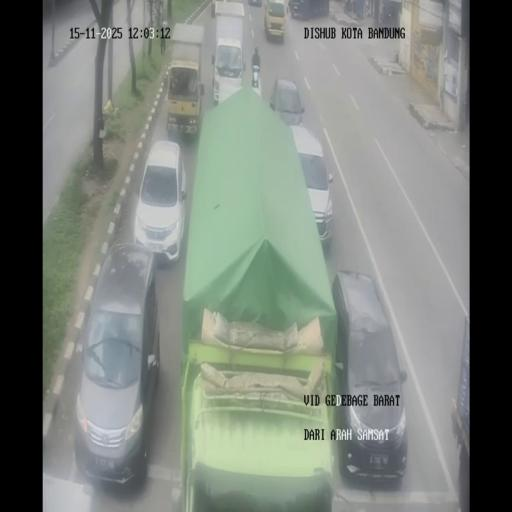car: (73, 240, 161, 486), (331, 272, 407, 482), (133, 139, 187, 265), (287, 125, 333, 250), (270, 78, 304, 126), (264, 0, 286, 42)
motorcycle: (251, 52, 261, 91), (344, 0, 353, 14)
truck: (179, 85, 335, 508), (164, 24, 204, 142), (211, 1, 246, 105), (210, 0, 229, 18)
